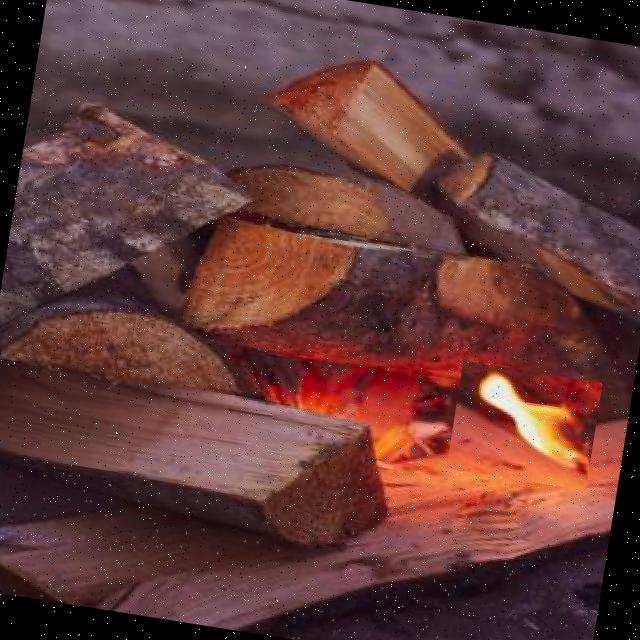fire: (447, 361, 602, 491)
